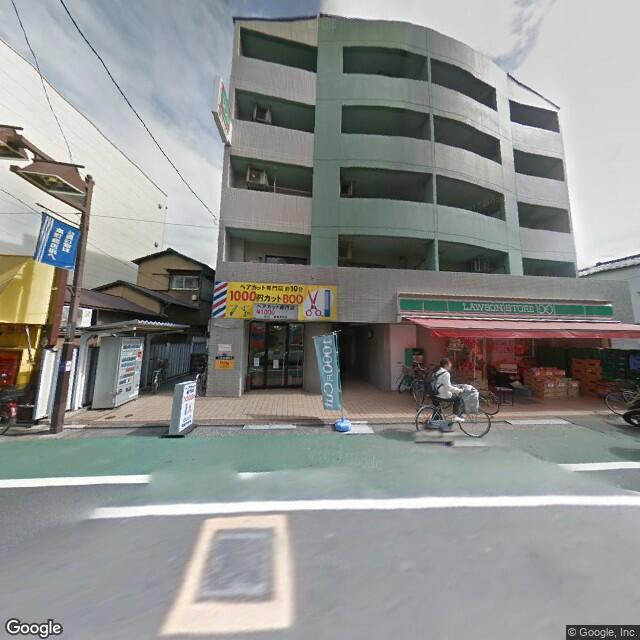lawson: (392, 288, 616, 324)
